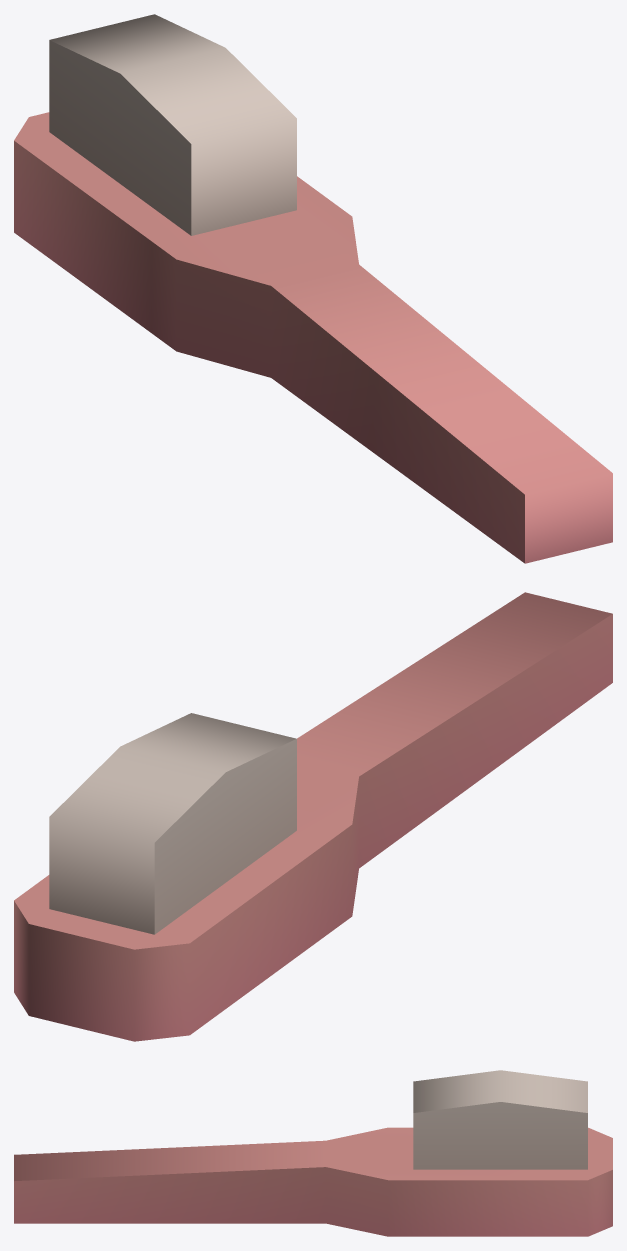
The model's file is toothbrush.glb.
The picture shows the model from 3 angles, top to bottom: view 1: azimuth 30°, elevation 25°; view 2: azimuth 150°, elevation 25°; view 3: azimuth 270°, elevation 25°; orthographic projection. The views are drawn at different scales.
Visible parts, largest first — view 1: toothbrush; view 2: toothbrush; view 3: toothbrush.
Boxes of the visible parts, x1,y1,x2,y2 form: toothbrush: (14,14,612,563); toothbrush: (14,592,612,1041); toothbrush: (14,1070,612,1236).
Bounding box in the file's own units: 0.05 × 0.055 × 0.24.
